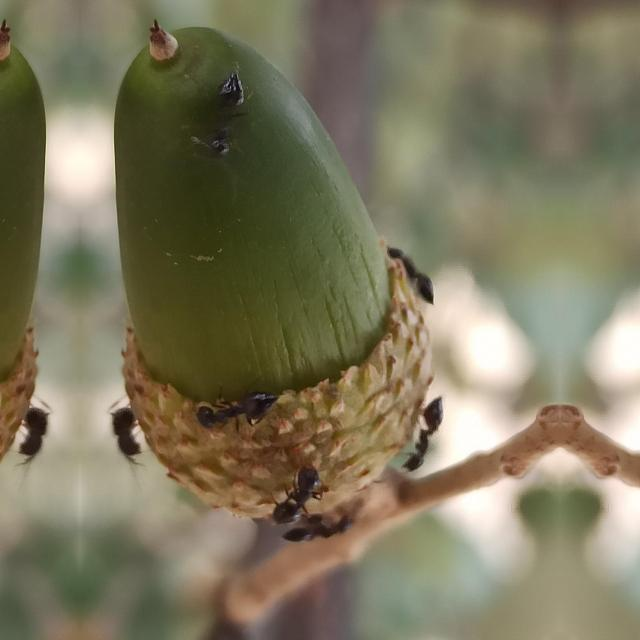Crematogaster: (194, 60, 250, 160), (382, 227, 438, 311), (192, 388, 276, 442), (268, 458, 332, 526), (397, 392, 447, 476), (278, 513, 368, 549), (104, 396, 148, 462), (10, 396, 54, 462)
